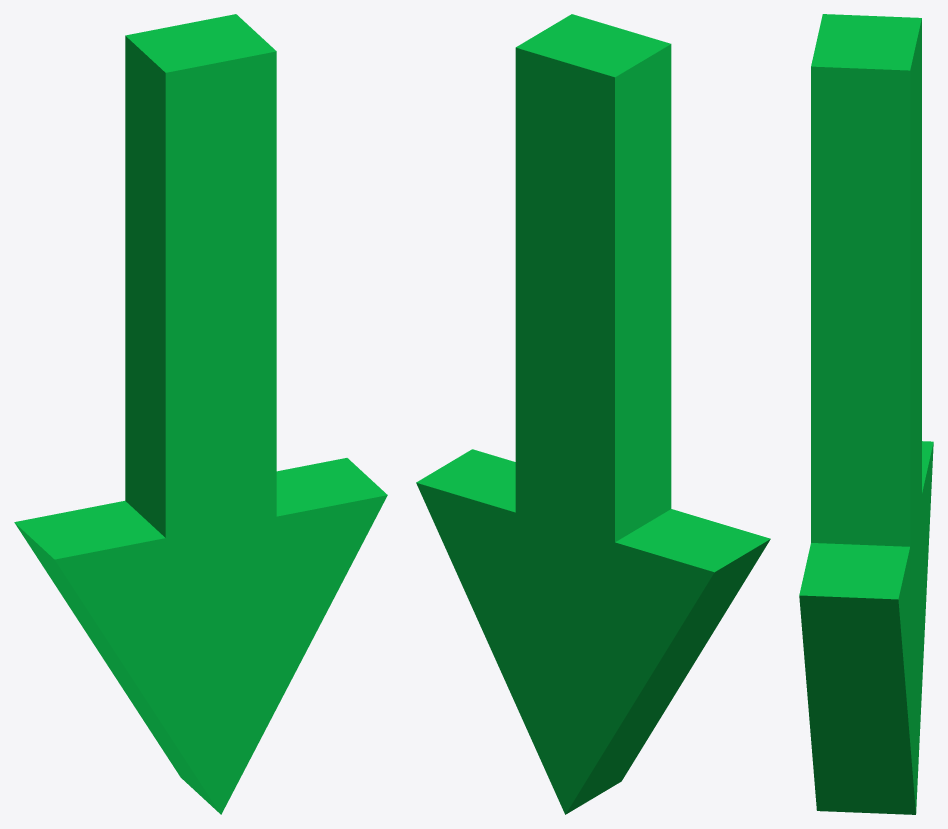
Rendered from GamesE_E02_Flecha_Modelo.fbx.
3 views of the same model, side by side, from view 1: azimuth 30°, elevation 25°; view 2: azimuth 150°, elevation 25°; view 3: azimuth 270°, elevation 25° (orthographic). The views are drawn at different scales.
Visible parts, largest first — view 1: Circle; view 2: Circle; view 3: Circle.
Part boxes in pixels (x1=…): Circle: x1=14, y1=14, x2=387, y2=814; Circle: x1=416, y1=14, x2=770, y2=814; Circle: x1=799, y1=14, x2=933, y2=814.
Bounding box in the file's own units: 177 × 393 × 62.09.
